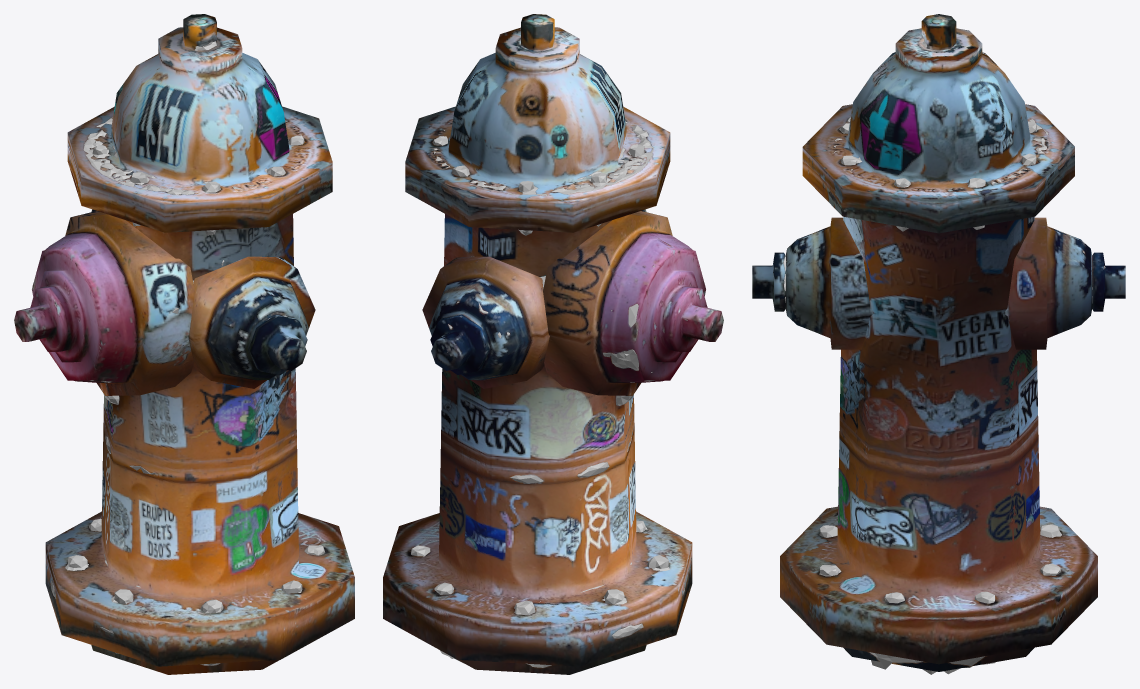
The model's file is Hydrant.fbx.
3 renders of one model, left to right at view 1: azimuth 30°, elevation 25°; view 2: azimuth 150°, elevation 25°; view 3: azimuth 270°, elevation 25°, orthographic.
Visible parts, largest first — view 1: Hydrant_low, Hydrant; view 2: Hydrant_low, Hydrant; view 3: Hydrant_low, Hydrant.
Part boxes in pixels (<box>): Hydrant_low: <box>14,14,354,674</box>; Hydrant: <box>51,41,324,665</box>; Hydrant_low: <box>383,14,723,674</box>; Hydrant: <box>411,121,687,667</box>; Hydrant_low: <box>752,14,1125,671</box>; Hydrant: <box>783,41,1105,674</box>.
Size of the model in its own units: 45.45 by 83.92 by 46.83.
